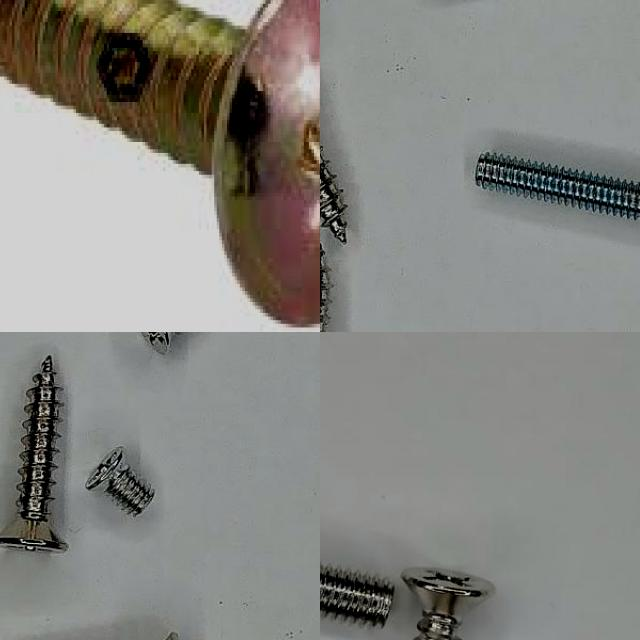Screw: (0, 0, 320, 327), (0, 355, 68, 552), (475, 153, 640, 221), (401, 567, 494, 640), (85, 447, 154, 517), (320, 155, 345, 243)
